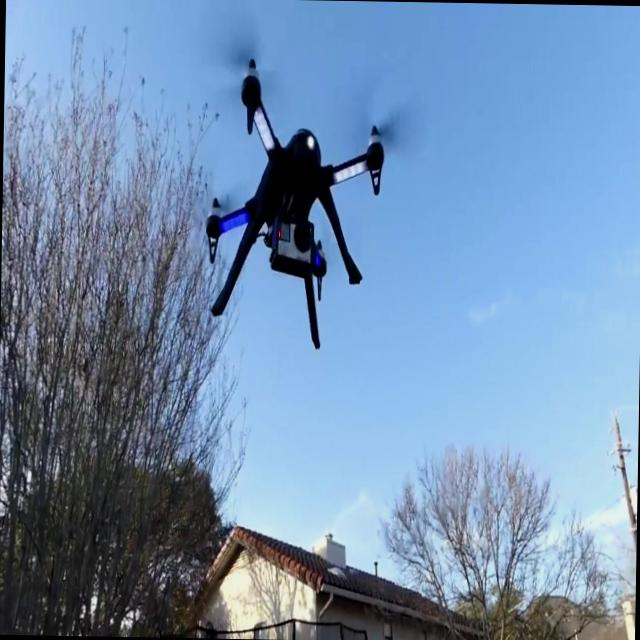drone: (202, 54, 386, 354)
